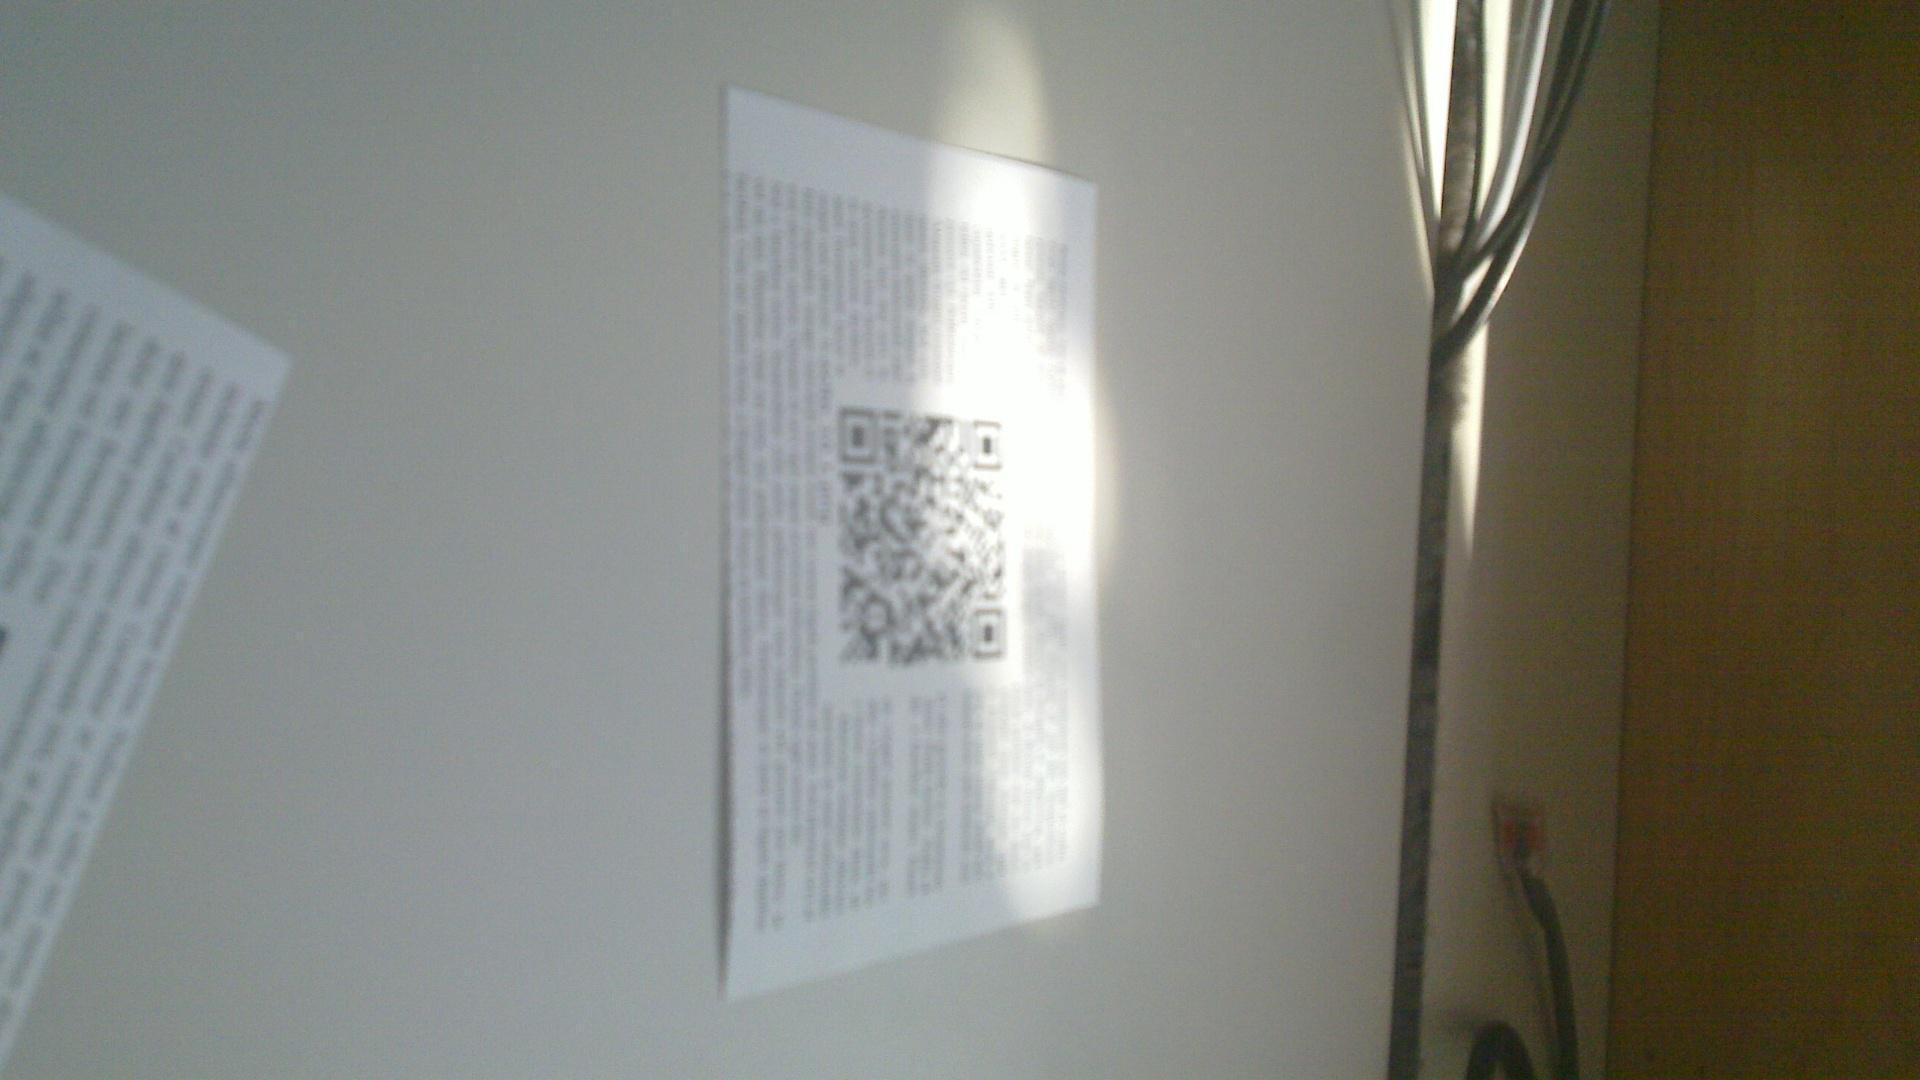Finder pattern: (836, 401, 882, 464), (965, 600, 1011, 662), (967, 411, 1006, 476)
